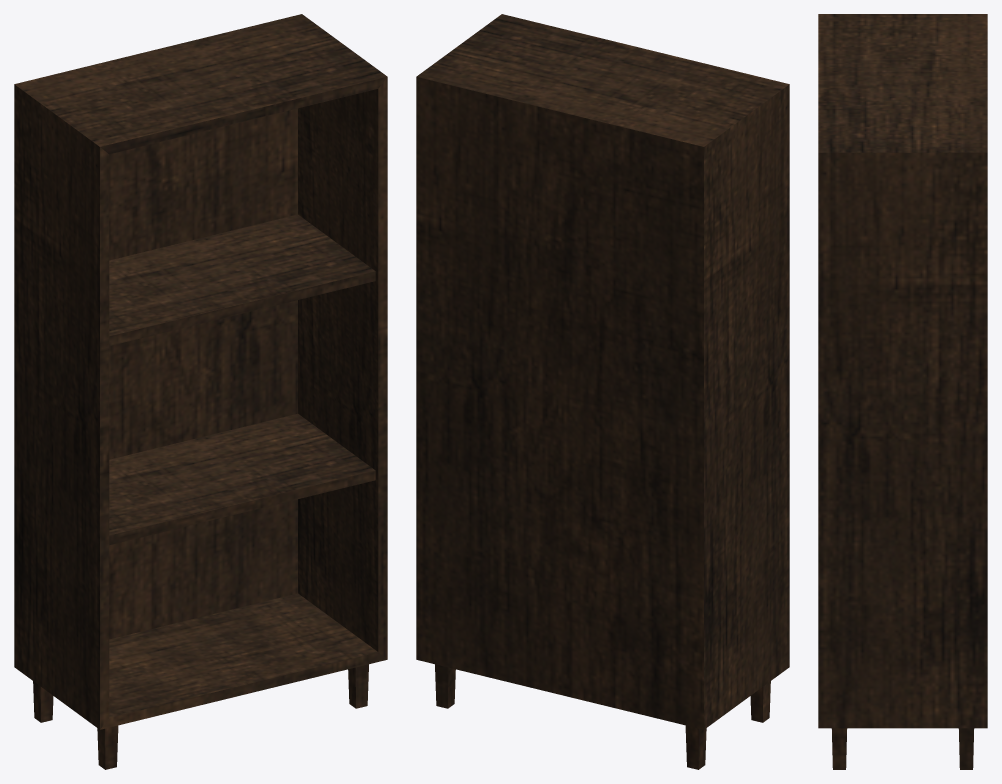
Rendered from shelf_mp_2_1.obj.
3 renders of one model, left to right at view 1: azimuth 30°, elevation 25°; view 2: azimuth 150°, elevation 25°; view 3: azimuth 270°, elevation 25°, orthographic.
Parts seen in each view (by area): view 1: shelf_mp_2_1; view 2: shelf_mp_2_1; view 3: shelf_mp_2_1.
Part boxes in pixels (x1,y1,x2,y2): shelf_mp_2_1: (14, 14, 387, 769); shelf_mp_2_1: (416, 14, 789, 769); shelf_mp_2_1: (818, 14, 987, 769).
Size of the model in its own units: 0.62 by 1.3 by 0.32.
